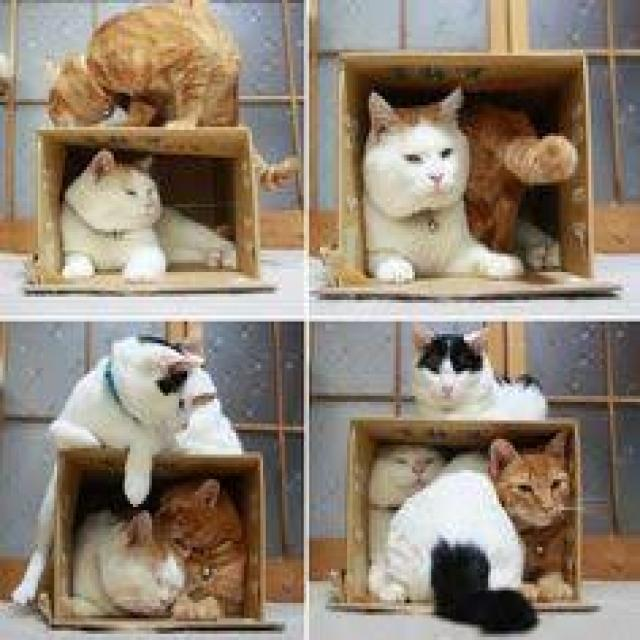Cat: (48, 326, 244, 503), (358, 89, 523, 287), (45, 3, 247, 130), (56, 151, 238, 285), (73, 506, 187, 634), (487, 433, 576, 532), (409, 324, 501, 416), (374, 434, 444, 498)
